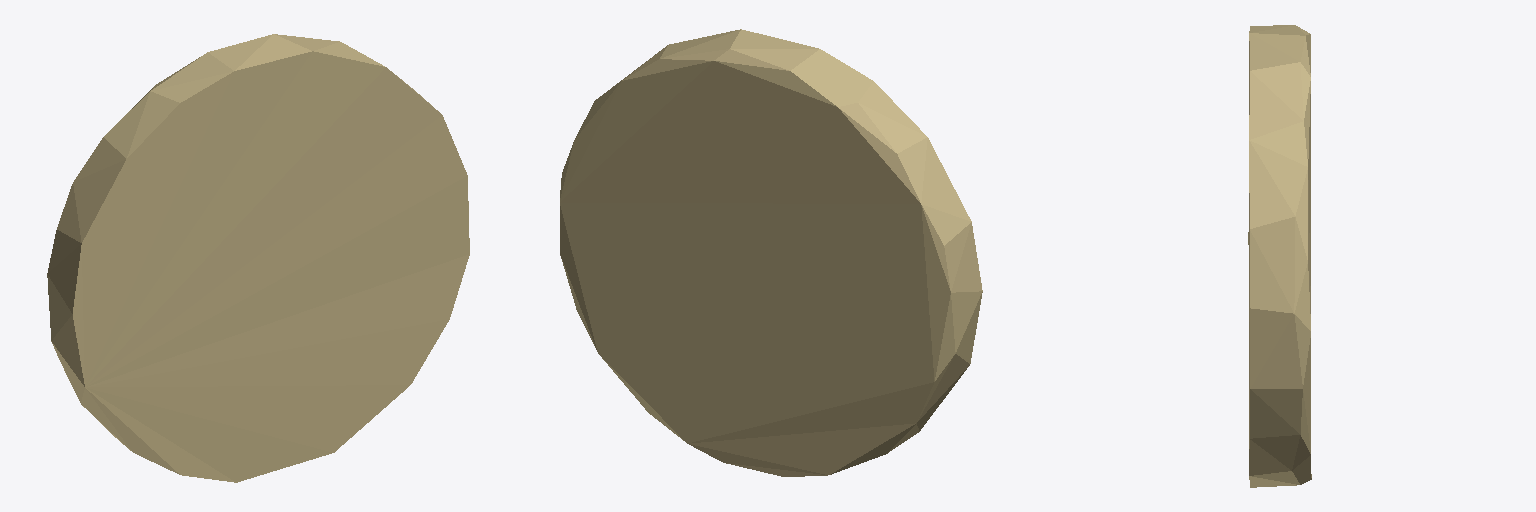
3 renders of one model, left to right at view 1: azimuth 30°, elevation 25°; view 2: azimuth 150°, elevation 25°; view 3: azimuth 270°, elevation 25°, orthographic.
Visible parts, largest first — view 1: BottomBun; view 2: BottomBun; view 3: BottomBun.
Boxes of the visible parts, <box> form: BottomBun: <box>47,34,469,482</box>; BottomBun: <box>560,29,982,476</box>; BottomBun: <box>1248,25,1311,487</box>.
Bounding box in the file's own units: 0.091 × 0.0906 × 0.0125.
Materials: 1 (1 with a texture image).